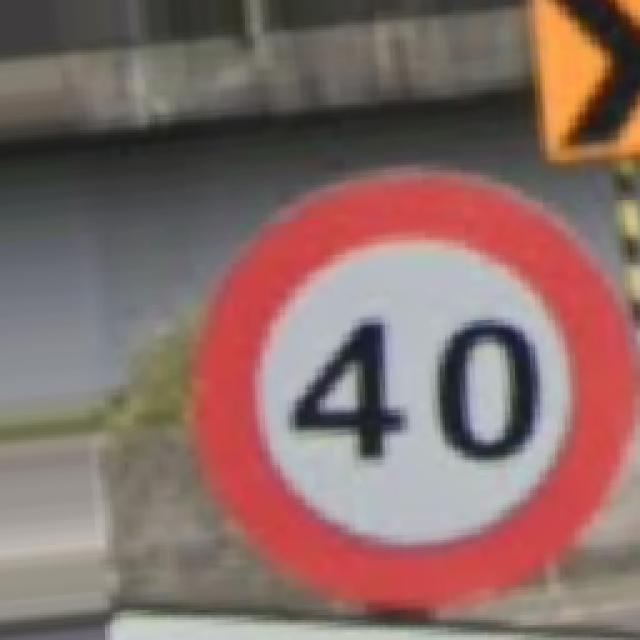Speed Limit -40-: (195, 172, 635, 605)
